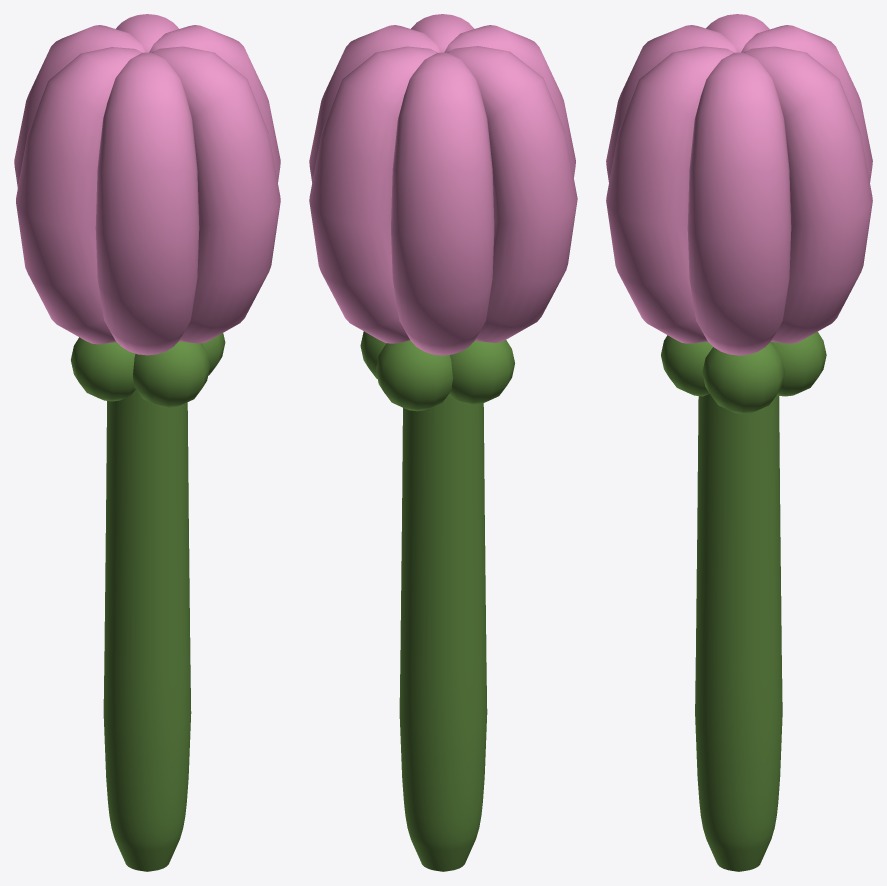
File: BalloonFlower.fbx
3 renders of one model, left to right at view 1: azimuth 30°, elevation 25°; view 2: azimuth 150°, elevation 25°; view 3: azimuth 270°, elevation 25°, orthographic.
Parts seen in each view (by area): view 1: Sphere.006, Sphere.001, Sphere.002, Sphere.011, Sphere.008, Sphere.005, Sphere.003, Sphere.007, Sphere.004; view 2: Sphere.006, Sphere.005, Sphere.011, Sphere.004, Sphere, Sphere.007, Sphere.003, Sphere.001, Sphere.002, Sphere.009; view 3: Sphere.006, Sphere.003, Sphere.002, Sphere.004, Sphere.009, Sphere.005, Sphere.001, Sphere, Sphere.008, Sphere.011.
Part boxes in pixels (left/top/right/bottom): Sphere.006: left=103, top=390, right=191, bottom=871; Sphere.001: left=95, top=52, right=199, bottom=355; Sphere.002: left=152, top=46, right=280, bottom=343; Sphere.011: left=16, top=47, right=142, bottom=344; Sphere.008: left=133, top=341, right=210, bottom=407; Sphere.005: left=14, top=25, right=145, bottom=187; Sphere.003: left=149, top=25, right=280, bottom=182; Sphere.007: left=71, top=337, right=135, bottom=401; Sphere.004: left=116, top=14, right=178, bottom=52; Sphere.006: left=399, top=395, right=487, bottom=871; Sphere.005: left=391, top=52, right=494, bottom=355; Sphere.011: left=447, top=46, right=577, bottom=342; Sphere.004: left=309, top=46, right=437, bottom=343; Sphere: left=375, top=340, right=452, bottom=411; Sphere.007: left=448, top=340, right=514, bottom=404; Sphere.003: left=309, top=25, right=440, bottom=182; Sphere.001: left=444, top=25, right=575, bottom=177; Sphere.002: left=411, top=14, right=474, bottom=52; Sphere.009: left=360, top=331, right=386, bottom=378; Sphere.006: left=695, top=394, right=782, bottom=871; Sphere.003: left=687, top=52, right=791, bottom=355; Sphere.002: left=606, top=46, right=734, bottom=343; Sphere.004: left=744, top=46, right=872, bottom=343; Sphere.009: left=702, top=342, right=785, bottom=413; Sphere.005: left=741, top=25, right=872, bottom=182; Sphere.001: left=606, top=25, right=737, bottom=181; Sphere: left=771, top=332, right=826, bottom=396; Sphere.008: left=661, top=335, right=712, bottom=396; Sphere.011: left=706, top=14, right=769, bottom=52.
Size of the model in its own units: 21.44 by 67.75 by 19.75.
